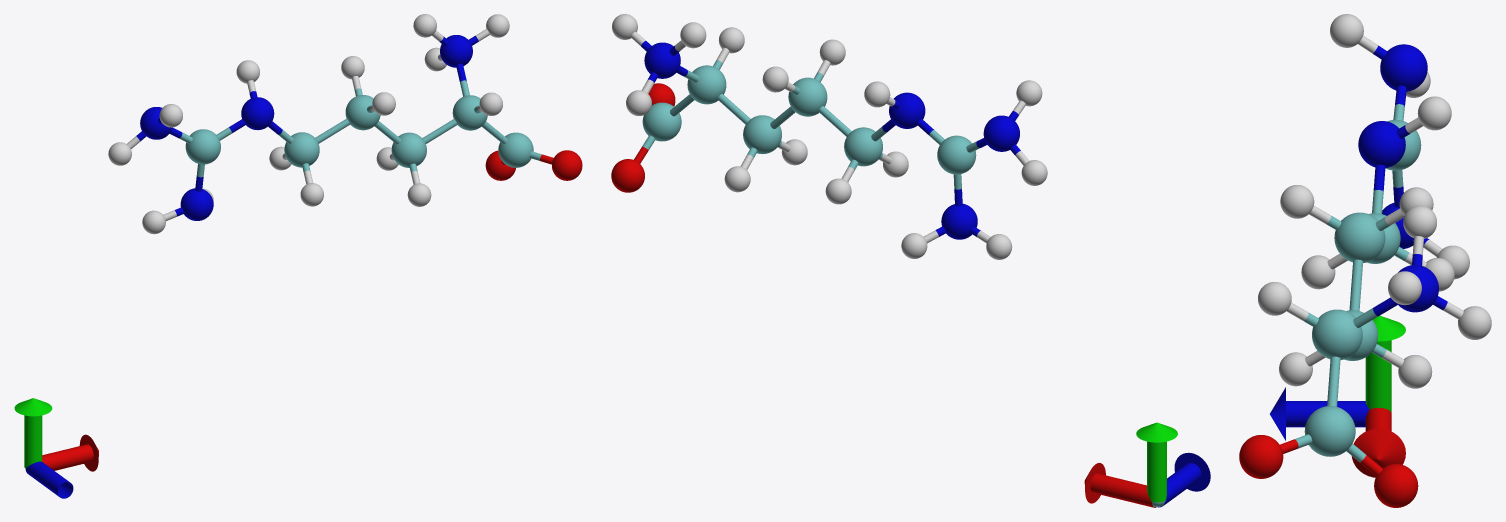
The model's file is amino_acid_model.glb.
3 renders of one model, left to right at view 1: azimuth 30°, elevation 25°; view 2: azimuth 150°, elevation 25°; view 3: azimuth 270°, elevation 25°, orthographic. The views are drawn at different scales.
Visible parts, largest first — view 1: Object_6, Object_3, Object_4, Object_5, Object_2; view 2: Object_3, Object_6, Object_4, Object_5, Object_2; view 3: Object_3, Object_6, Object_4, Object_5, Object_2.
Boxes of the visible parts, bbox=[...] form: Object_6: bbox=[179, 80, 542, 177]; Object_3: bbox=[108, 14, 509, 234]; Object_4: bbox=[25, 35, 478, 498]; Object_5: bbox=[42, 150, 582, 471]; Object_2: bbox=[14, 398, 52, 468]; Object_3: bbox=[612, 14, 1047, 259]; Object_6: bbox=[642, 60, 1165, 507]; Object_4: bbox=[641, 41, 1210, 507]; Object_5: bbox=[611, 83, 1156, 507]; Object_2: bbox=[1136, 422, 1177, 502]; Object_3: bbox=[1258, 14, 1491, 388]; Object_6: bbox=[1295, 104, 1421, 462]; Object_4: bbox=[1270, 44, 1447, 440]; Object_5: bbox=[1239, 408, 1418, 507]; Object_2: bbox=[1365, 315, 1405, 412].
Bounding box in the file's own units: 1.99 × 1.31 × 0.5788.
